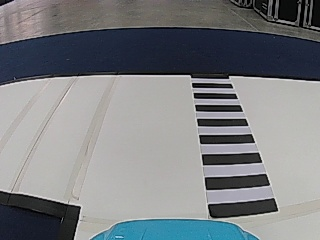CrossWalk: (189, 73, 276, 211)
